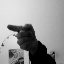g: (5, 23, 36, 51)
